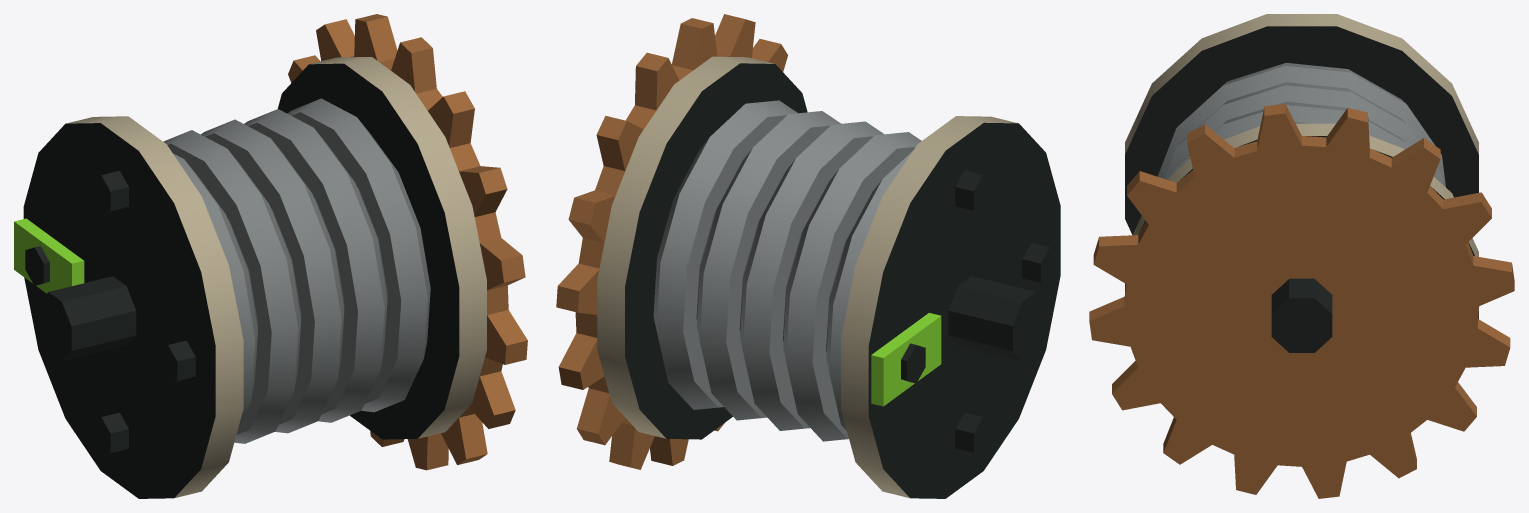
File: grapple_cannon_drive.glb
The picture shows the model from 3 angles, left to right: view 1: azimuth 30°, elevation 25°; view 2: azimuth 150°, elevation 25°; view 3: azimuth 270°, elevation 25°; orthographic projection. The views are drawn at different scales.
Parts seen in each view (by area): view 1: Drive; view 2: Drive; view 3: Drive.
Boxes of the visible parts, left/top/right/bottom form: Drive: left=14, top=14, right=527, bottom=498; Drive: left=556, top=14, right=1060, bottom=498; Drive: left=1089, top=14, right=1514, bottom=498.
Size of the model in its own units: 0.26 by 0.2592 by 0.2592.
